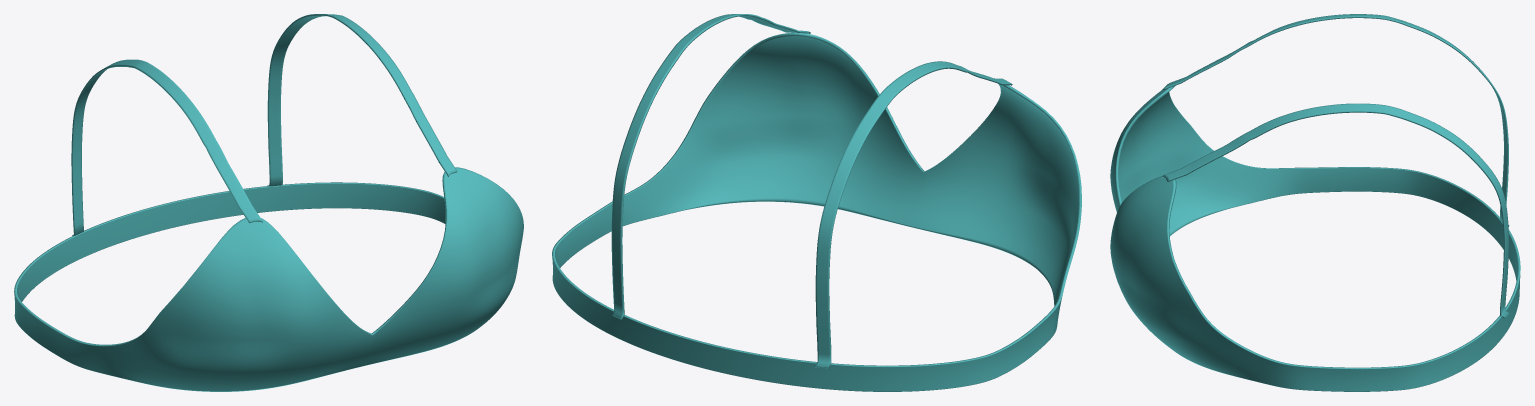
The model's file is Feminine-triangle-top.glb.
The picture shows the model from 3 angles, left to right: view 1: azimuth 30°, elevation 25°; view 2: azimuth 150°, elevation 25°; view 3: azimuth 270°, elevation 25°; orthographic projection. The views are drawn at different scales.
Parts seen in each view (by area): view 1: Clothing / connected triangle201 runtime208, Clothing / Triangle sewn strap201 -1 runtime208, Clothing / Triangle sewn strap201 1 runtime208; view 2: Clothing / connected triangle201 runtime208, Clothing / Triangle sewn strap201 -1 runtime208, Clothing / Triangle sewn strap201 1 runtime208; view 3: Clothing / connected triangle201 runtime208, Clothing / Triangle sewn strap201 1 runtime208, Clothing / Triangle sewn strap201 -1 runtime208.
Part boxes in pixels (left/top/right/bottom): Clothing / connected triangle201 runtime208: left=14, top=167, right=523, bottom=391; Clothing / Triangle sewn strap201 -1 runtime208: left=71, top=59, right=262, bottom=235; Clothing / Triangle sewn strap201 1 runtime208: left=267, top=14, right=457, bottom=186; Clothing / connected triangle201 runtime208: left=552, top=32, right=1081, bottom=391; Clothing / Triangle sewn strap201 -1 runtime208: left=815, top=61, right=1012, bottom=368; Clothing / Triangle sewn strap201 1 runtime208: left=611, top=14, right=810, bottom=319; Clothing / connected triangle201 runtime208: left=1110, top=85, right=1520, bottom=391; Clothing / Triangle sewn strap201 1 runtime208: left=1162, top=103, right=1509, bottom=318; Clothing / Triangle sewn strap201 -1 runtime208: left=1162, top=14, right=1509, bottom=226.
Size of the model in its own units: 0.5562 by 0.2981 by 0.4771.
